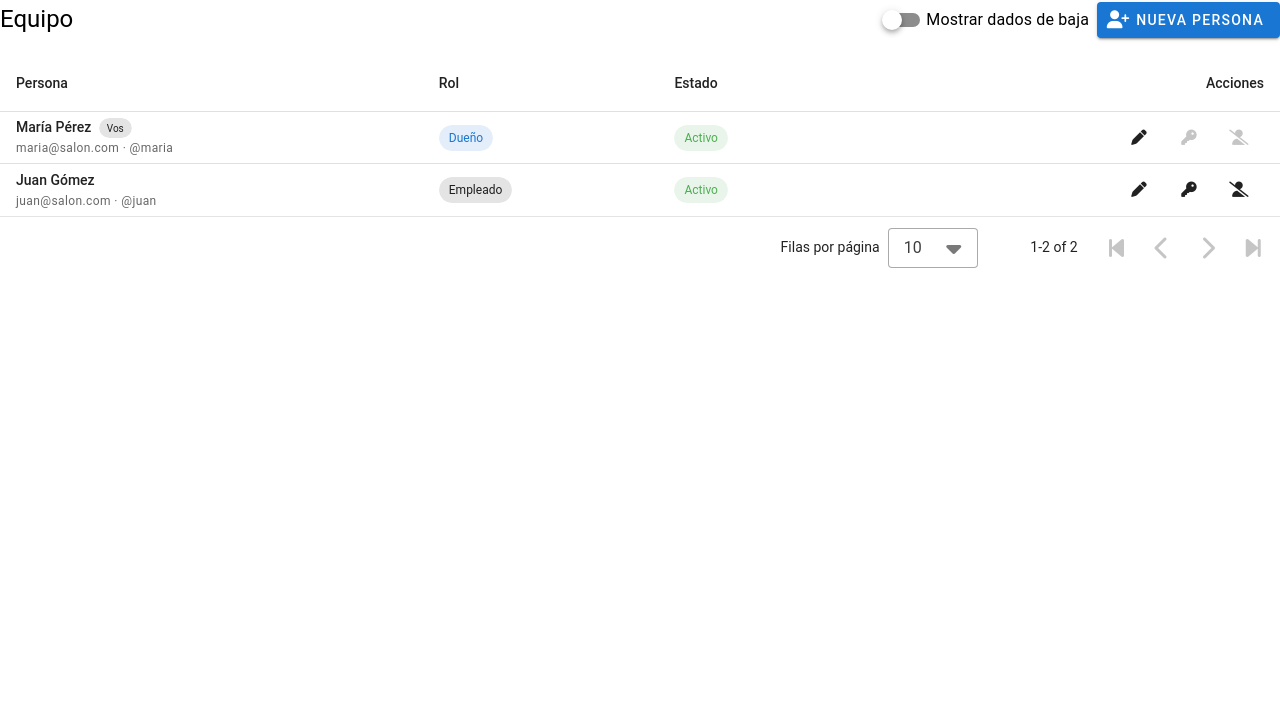
Test: EquipoView › resetear clave › confirma, genera la clave temporal, la muestra y recarga el listado
Click the button named "Resetear la clave de Juan Gómez" at (1189, 190), box x1=1164 y1=176 x2=1214 y2=204
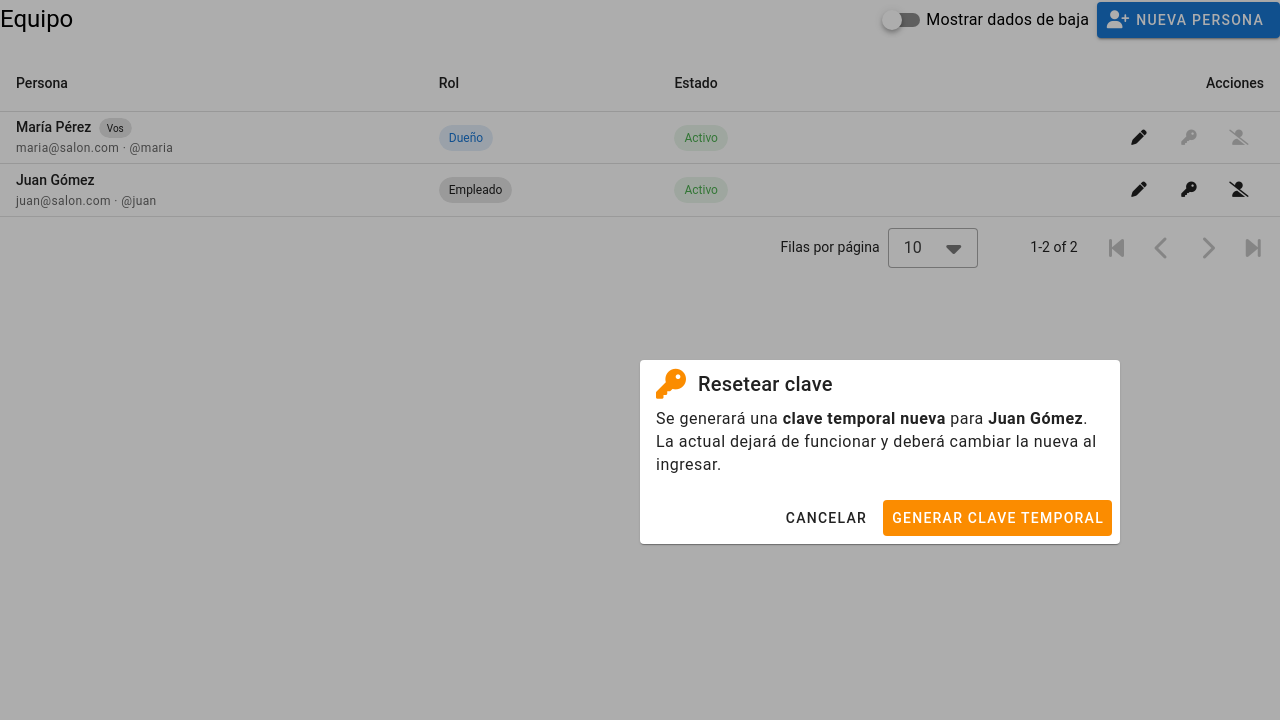
Now the text "La actual dejará de funcionar" is shown, box x1=656 y1=409 x2=1097 y2=474
Now the button "Generar clave temporal" is shown
Click the button "Generar clave temporal" at (998, 518), box x1=883 y1=500 x2=1112 y2=536
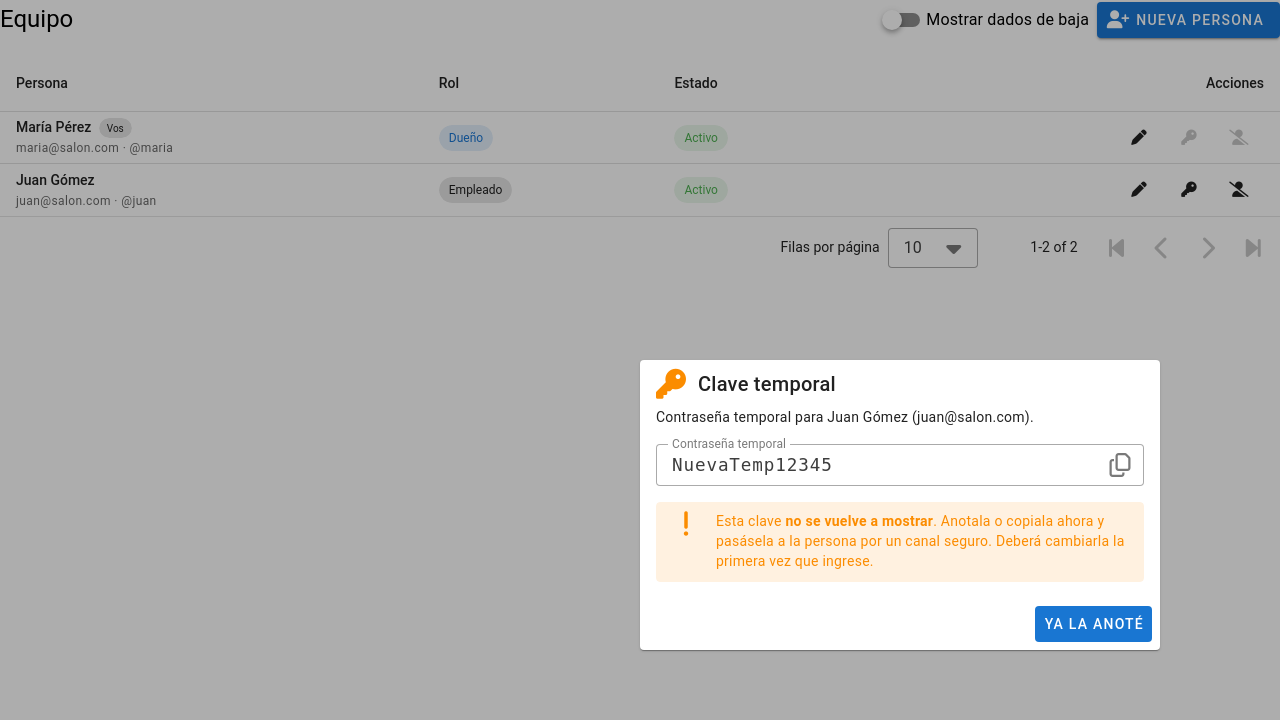
Now the field labelled "Contraseña temporal" holds "NuevaTemp12345", box x1=656 y1=444 x2=1108 y2=486
